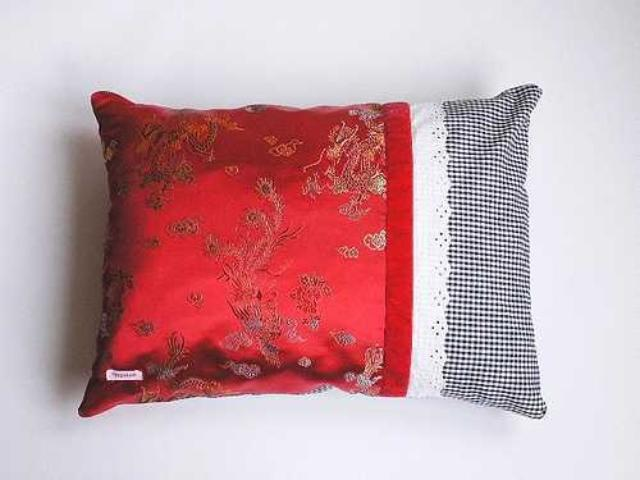pillow: (76, 83, 546, 420)
